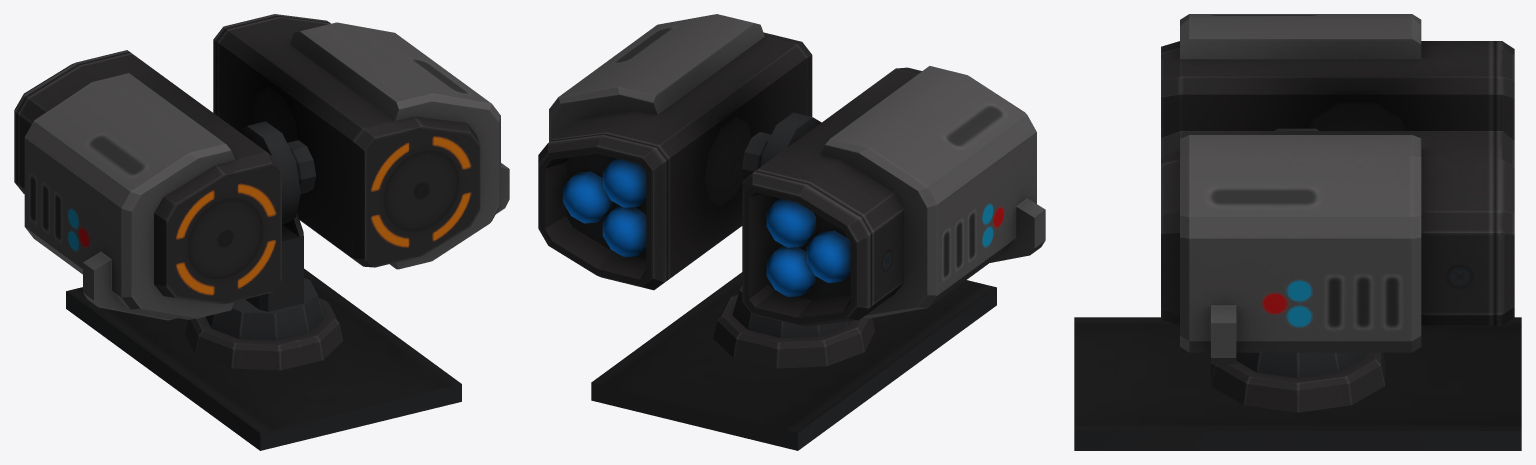
File: PDC_Rockets_Dual_1.fbx
3 renders of one model, left to right at view 1: azimuth 30°, elevation 25°; view 2: azimuth 150°, elevation 25°; view 3: azimuth 270°, elevation 25°, orthographic. The views are drawn at different scales.
Parts seen in each view (by area): view 1: Arcade1_MissilesLaunch, PDC_Lift.001, PDC_Stand.001; view 2: Arcade1_MissilesLaunch, PDC_Lift.001, PDC_Stand.001; view 3: Arcade1_MissilesLaunch, PDC_Lift.001, PDC_Stand.001.
Boxes of the visible parts, x1,y1,x2,y2 form: Arcade1_MissilesLaunch: (14, 14, 509, 320); PDC_Lift.001: (66, 268, 461, 450); PDC_Stand.001: (185, 121, 342, 370); Arcade1_MissilesLaunch: (538, 14, 1045, 327); PDC_Lift.001: (591, 272, 996, 450); PDC_Stand.001: (713, 112, 874, 368); Arcade1_MissilesLaunch: (1161, 14, 1514, 364); PDC_Lift.001: (1074, 317, 1521, 450); PDC_Stand.001: (1210, 128, 1385, 412).
Size of the model in its own units: 6.18 by 3.79 by 5.
